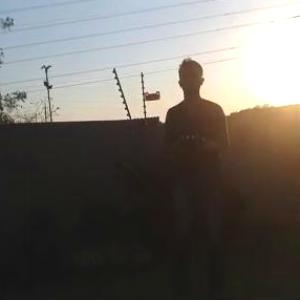follow: (158, 49, 233, 299)
